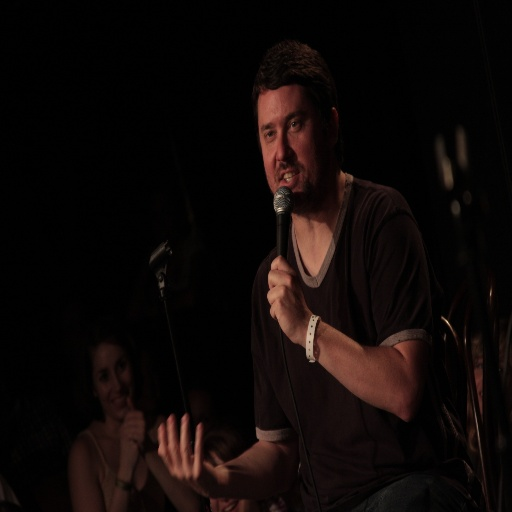hand: (261, 256, 323, 355), (157, 413, 219, 500), (125, 395, 152, 463), (118, 409, 145, 467)
